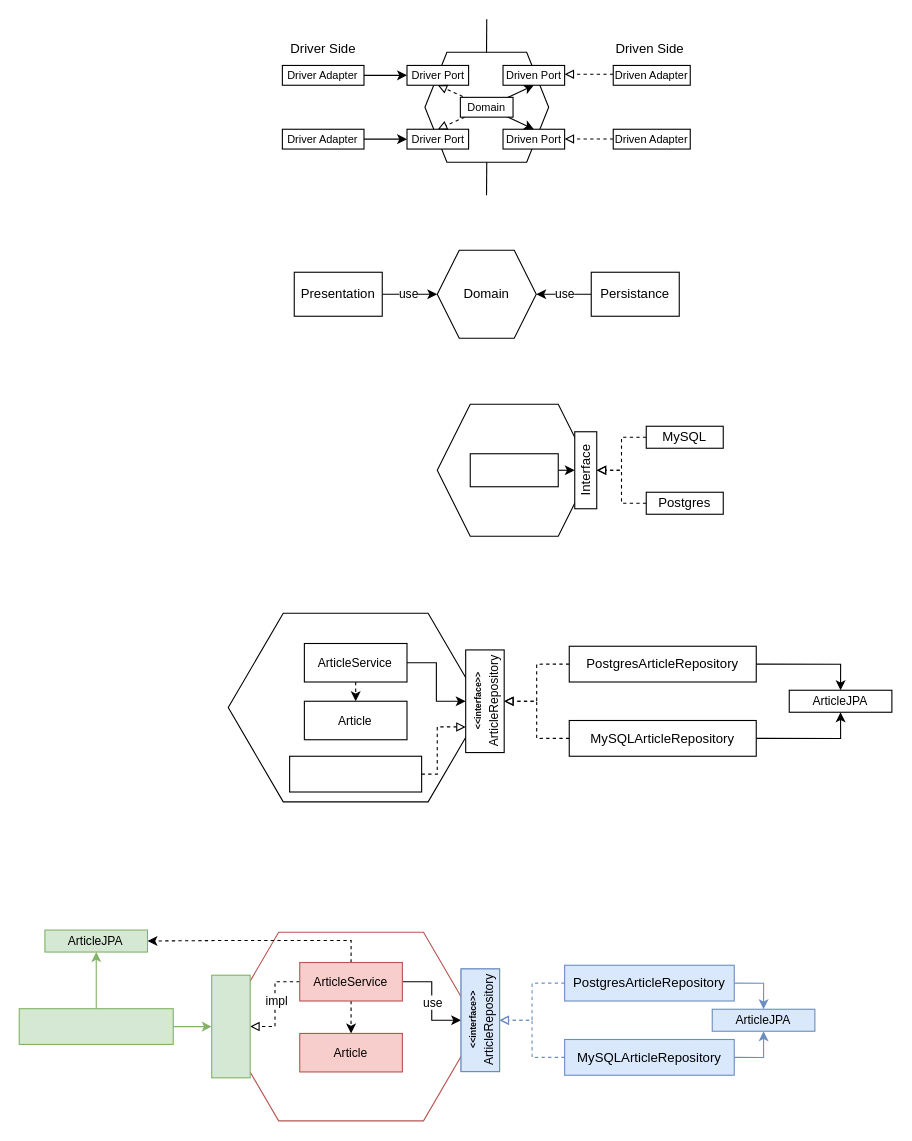
This 912x1141 diagram has some shape labels left out. Each missing label, with the box of its shape:
<<interface>> ArticleUseCase: (211, 974, 250, 1078)
ArticleRestController: (18, 1008, 173, 1044)
DomainService: (469, 453, 558, 487)
InMemoryArticleRepo: (289, 755, 422, 792)
